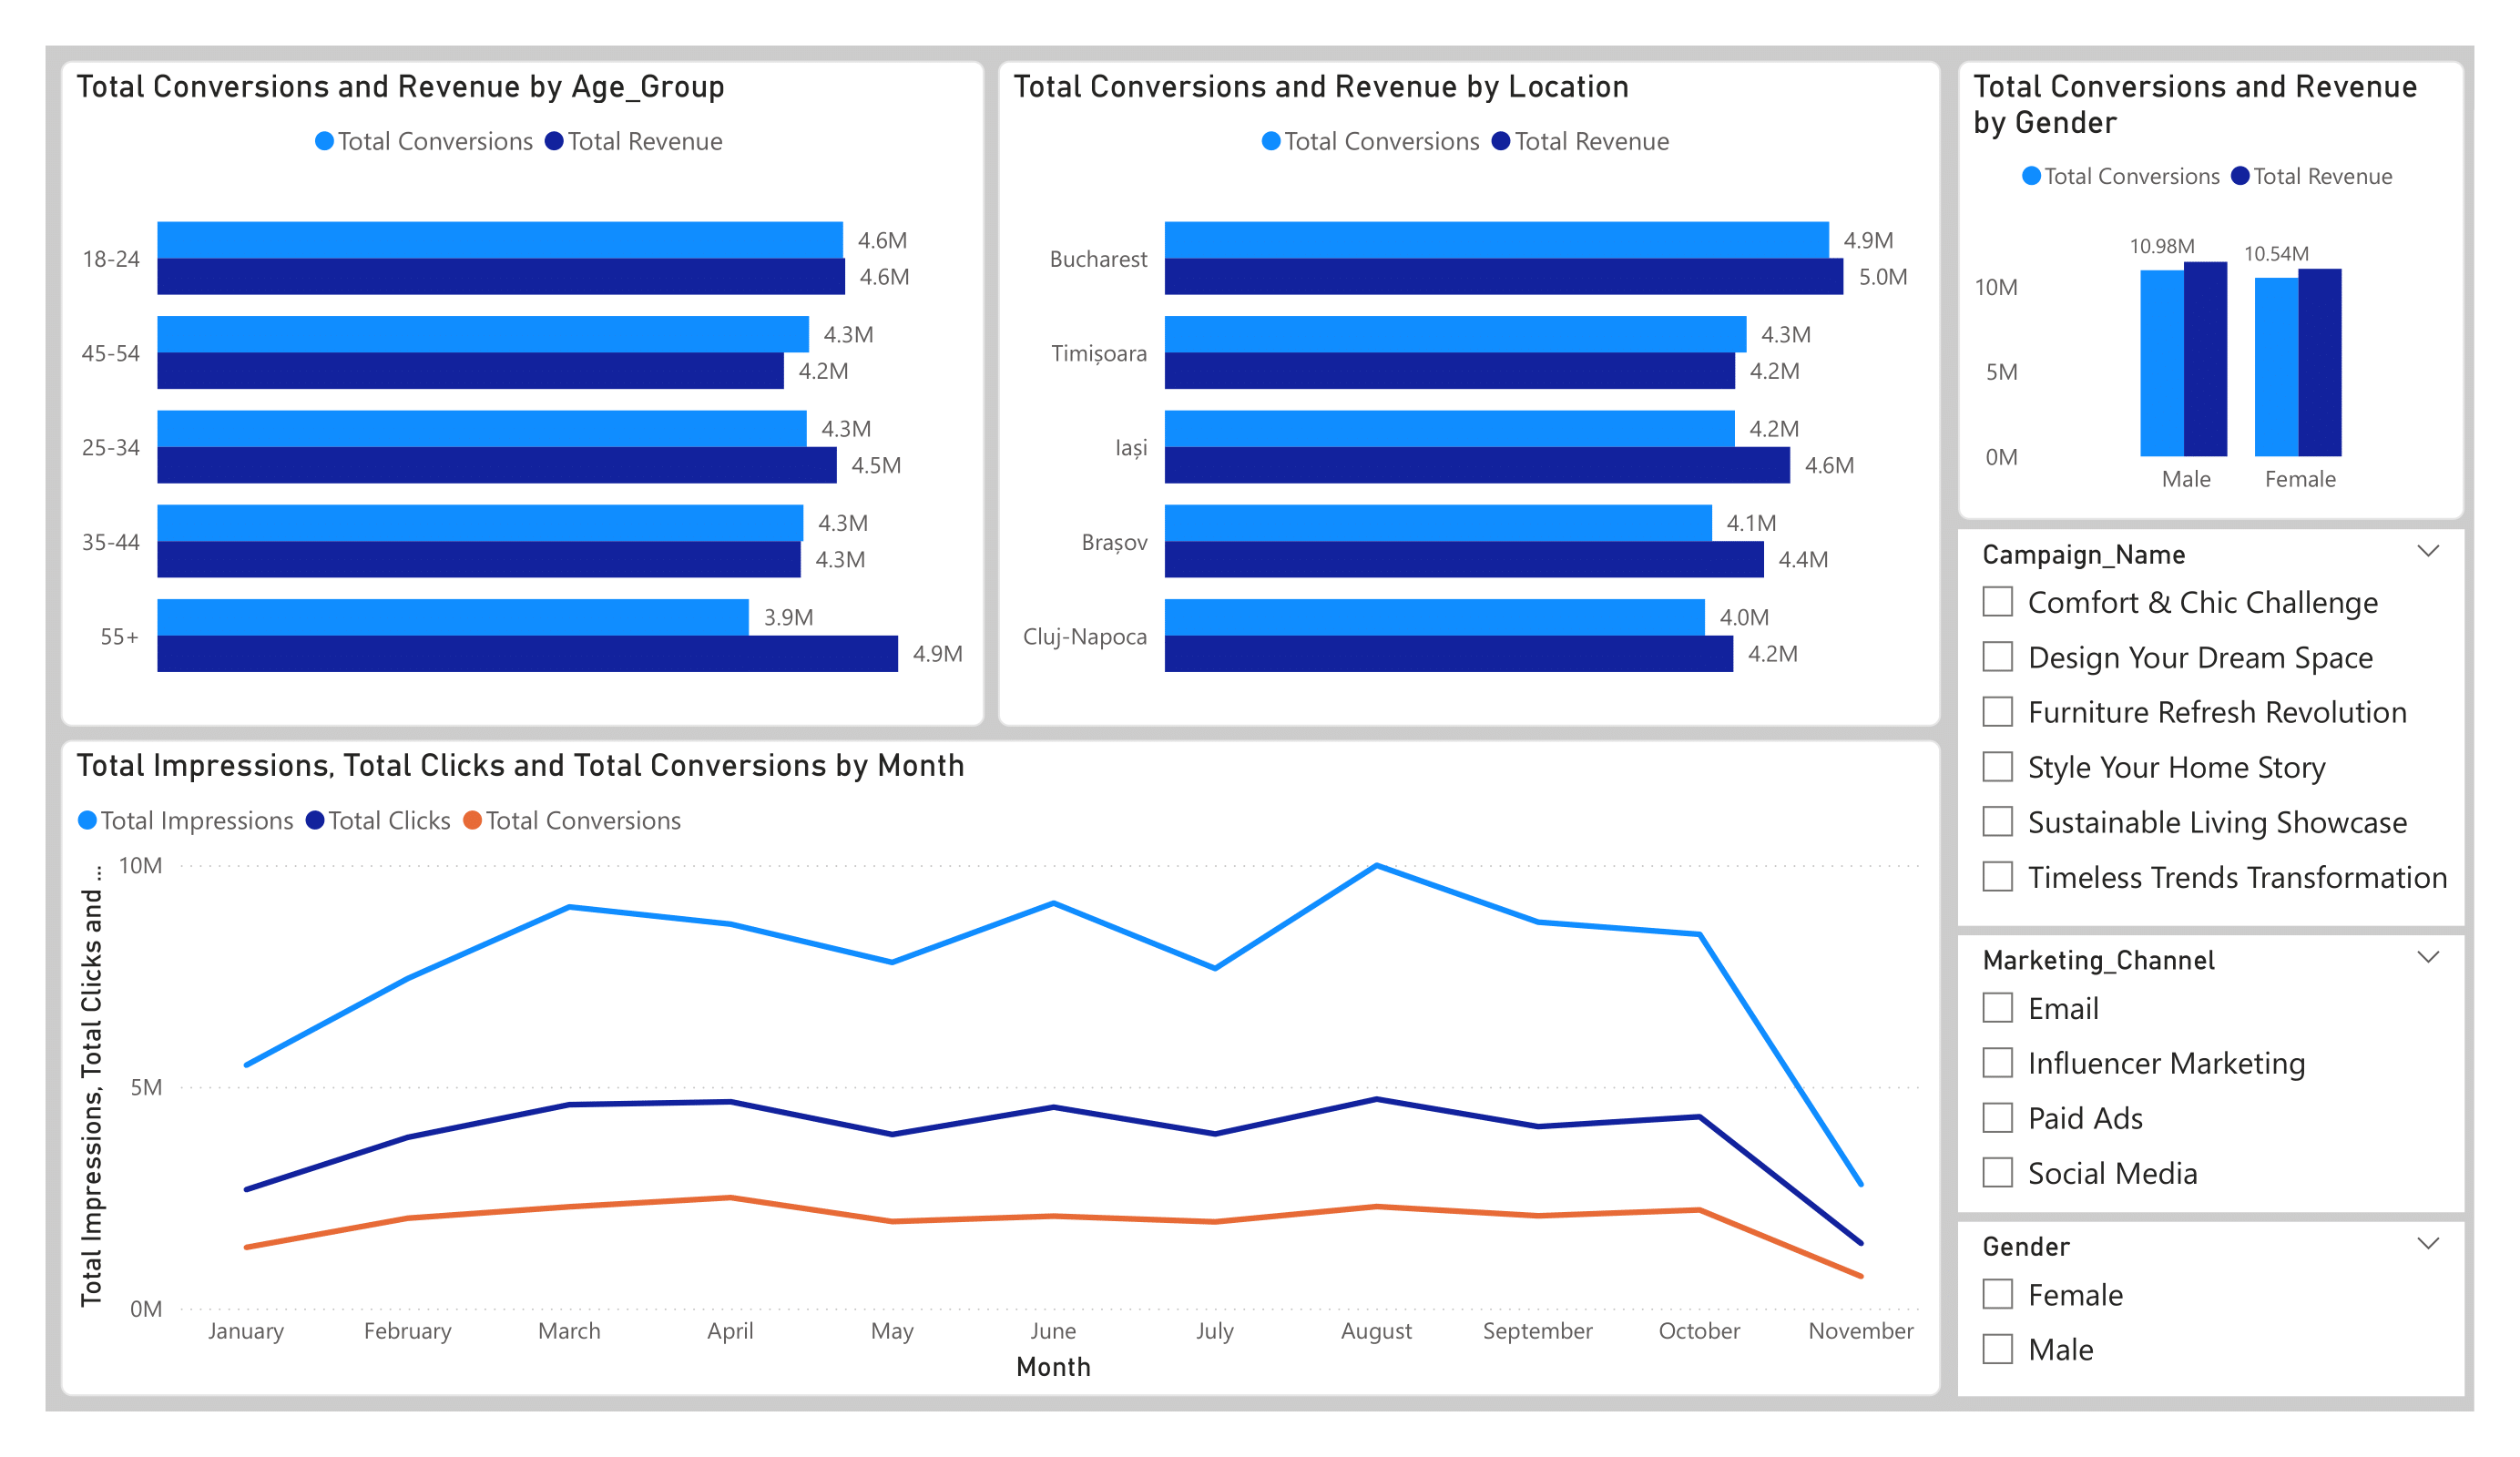

What the dashboard file says about the page in this screenshot:
{"tool":"powerbi","page":{"name":"Page 2","canvas":[1280,720],"ordinal":1},"visuals":[{"type":"clusteredBarChart","title":"Total Conversions and Revenue by Age_Group","fields":{"Y":["Measure Table.Total Conversions","Measure Table.Total Revenue"],"Category":["Campaign_Data.Age_Group"]},"box":[7.8,7.8,487.6,351.4],"z":0},{"type":"clusteredColumnChart","title":"Total Conversions and Revenue by Gender","fields":{"Category":["Campaign_Data.Gender"],"Y":["Measure Table.Total Conversions","Measure Table.Total Revenue"]},"box":[1007.6,7.6,267.9,242],"z":1000},{"type":"clusteredBarChart","title":"Total Conversions and Revenue by Location","fields":{"Y":["Measure Table.Total Conversions","Measure Table.Total Revenue"],"Category":["Campaign_Data.Location"]},"box":[501.9,7.8,496.7,351.4],"z":2000},{"type":"lineChart","fields":{"Y":["Measure Table.Total Impressions","Measure Table.Total Clicks","Measure Table.Total Conversions"],"Category":["Campaign_Data.End_Date.Variation.Date Hierarchy.Month"]},"box":[7.8,365.7,990.8,346.3],"z":3000},{"type":"slicer","fields":{"Values":["Campaign_Data.Campaign_Name"]},"box":[1007.7,255.5,267.2,208.8],"z":4000},{"type":"slicer","fields":{"Values":["Campaign_Data.Marketing_Channel"]},"box":[1007.7,469.5,267.2,145.2],"z":5000},{"type":"slicer","fields":{"Values":["Campaign_Data.Gender"]},"box":[1007.7,619.9,267.2,92.1],"z":6000}]}

Visuals, with their boxes on the page's 1280x720 design canvas (x1, y1, x2, y2). These are canvas units, not pixel positions in the 2520x1457 screenshot, which may show the page scaled, cropped or inside an application window:
"Total Conversions and Revenue by Age_Group" clusteredBarChart: BBox(8, 8, 495, 359)
"Total Conversions and Revenue by Gender" clusteredColumnChart: BBox(1008, 8, 1276, 250)
"Total Conversions and Revenue by Location" clusteredBarChart: BBox(502, 8, 999, 359)
lineChart - Measure Table.Total Impressions x Measure Table.Total Clicks: BBox(8, 366, 999, 712)
slicer - Campaign_Data.Campaign_Name: BBox(1008, 256, 1275, 464)
slicer - Campaign_Data.Marketing_Channel: BBox(1008, 470, 1275, 615)
slicer - Campaign_Data.Gender: BBox(1008, 620, 1275, 712)
